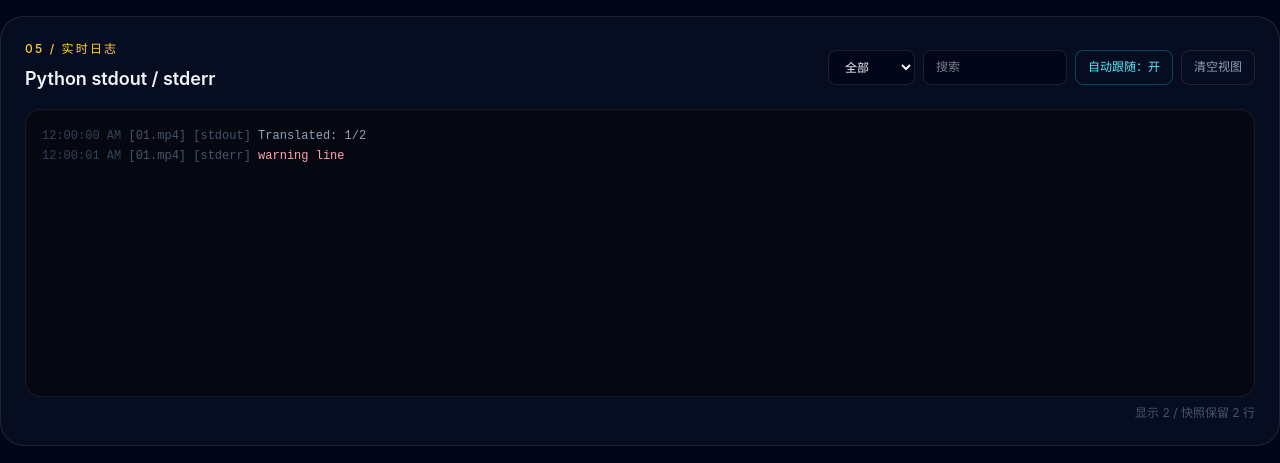
Test: LogConsole › filters streams, searches, toggles following and clears only the view
The width and height of the screenshot is (1280, 463).
Expected: the text "Translated: 1/2" is shown, left=258, top=129, right=366, bottom=143
Select "stderr" in the dropdown named "日志流筛选": (872, 67) left=828, top=50, right=915, bottom=84
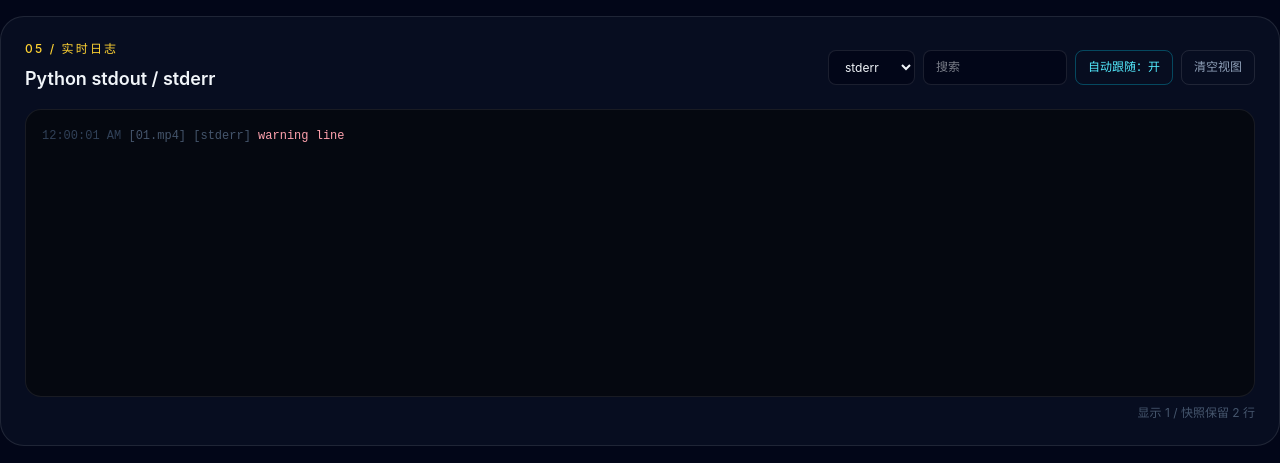
Expected: the text "warning line" is shown, left=258, top=129, right=344, bottom=143
Now the text "Translated: 1/2" is gone
Click the button "自动跟随：开": (1124, 67) left=1075, top=50, right=1173, bottom=84
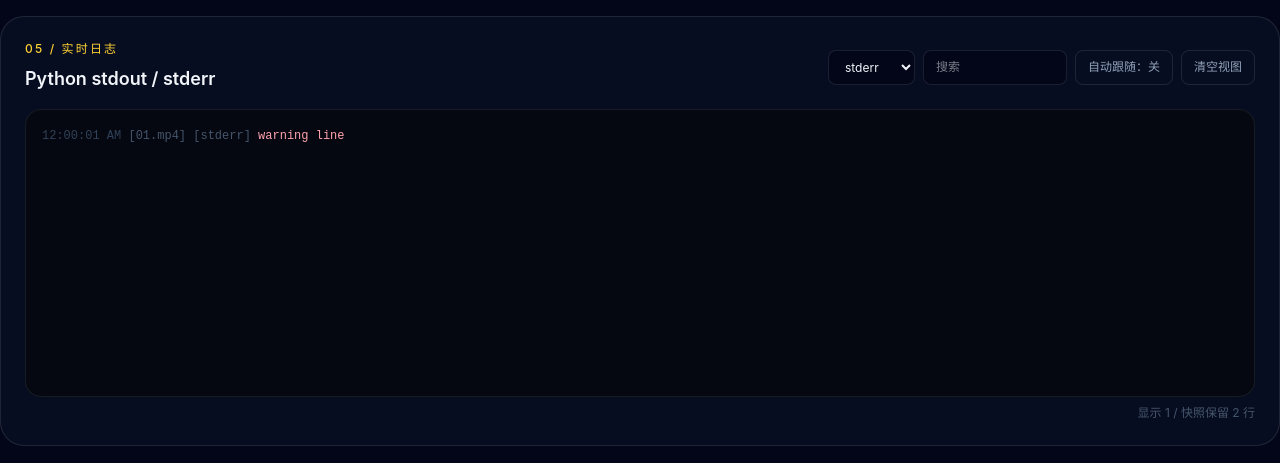
Now the button "自动跟随：关" is shown, box left=1075, top=50, right=1173, bottom=84
Click the button "清空视图": (1218, 67) left=1181, top=50, right=1255, bottom=84
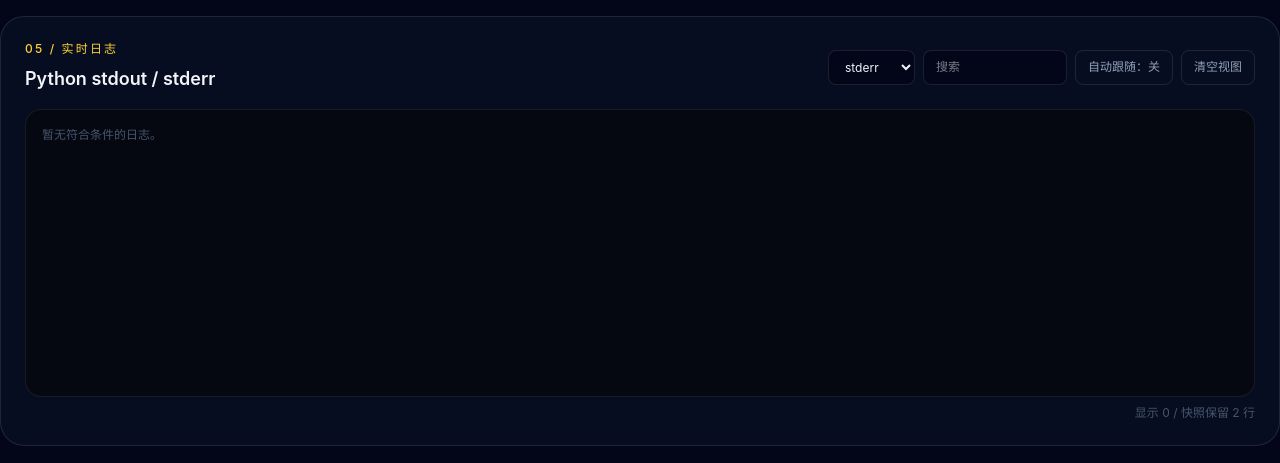
Now the text "暂无符合条件的日志。" is shown, box left=42, top=129, right=162, bottom=143
